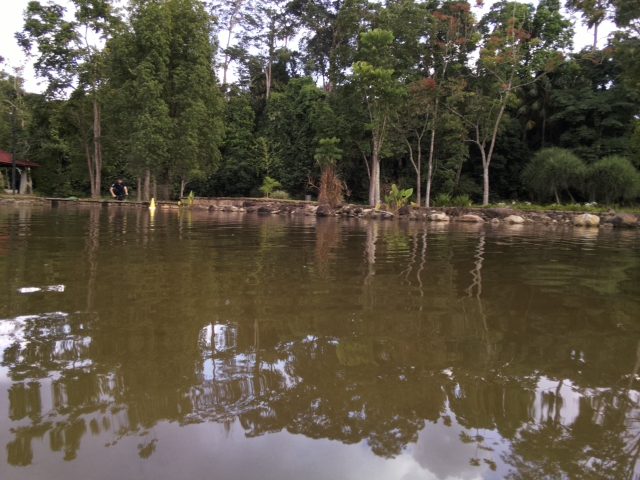checkpoint: (147, 196, 157, 211)
